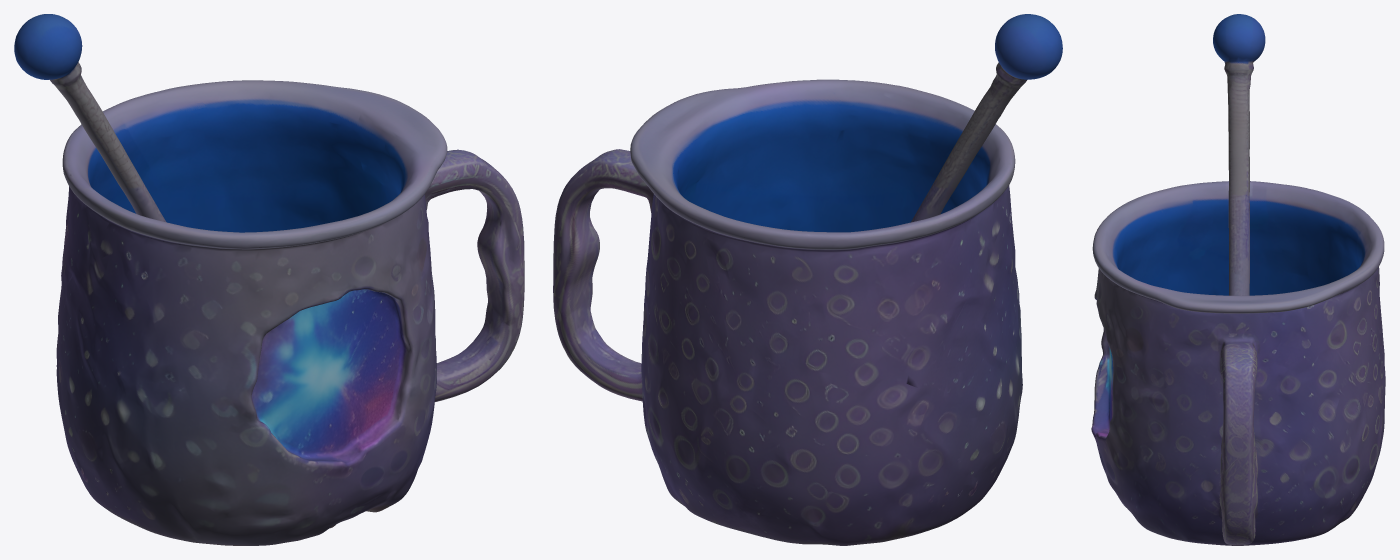
Rendered from romantex_15.glb.
The picture shows the model from 3 angles, left to right: view 1: azimuth 30°, elevation 25°; view 2: azimuth 150°, elevation 25°; view 3: azimuth 270°, elevation 25°; orthographic projection. The views are drawn at different scales.
Visible parts, largest first — view 1: texture_v130_hdr_21w_pbr_dino_11w.001; view 2: texture_v130_hdr_21w_pbr_dino_11w.001; view 3: texture_v130_hdr_21w_pbr_dino_11w.001.
Boxes of the visible parts, bbox=[...] form: texture_v130_hdr_21w_pbr_dino_11w.001: bbox=[14, 14, 524, 545]; texture_v130_hdr_21w_pbr_dino_11w.001: bbox=[553, 14, 1062, 545]; texture_v130_hdr_21w_pbr_dino_11w.001: bbox=[1091, 14, 1385, 545].
Size of the model in its own units: 1.99 by 1.99 by 1.3.
Materials: 1 (1 with a texture image).
